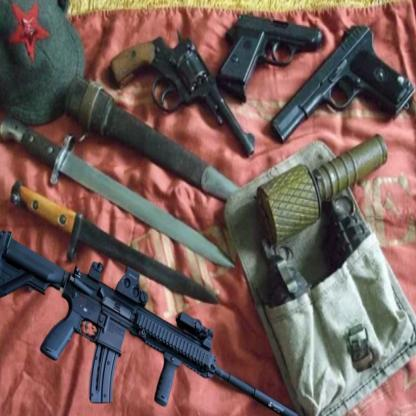Grenade: (255, 135, 388, 243), (258, 240, 314, 310), (324, 193, 372, 269)
Gun: (0, 230, 298, 416)
Knife: (0, 117, 236, 268), (11, 181, 219, 305)
Pistol: (109, 29, 255, 154), (269, 23, 416, 142), (217, 11, 325, 103)
